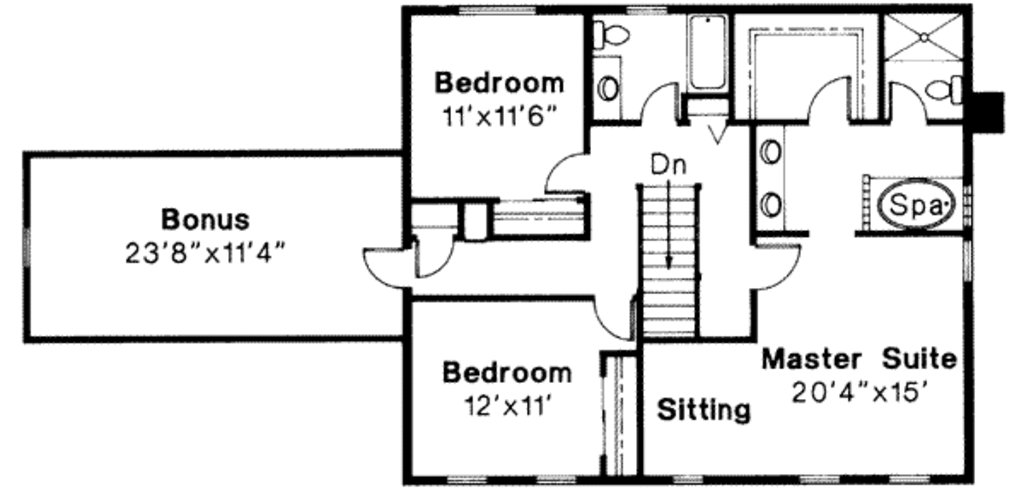door: (748, 241, 803, 295), (803, 72, 859, 125), (542, 148, 594, 200), (360, 247, 408, 296), (590, 290, 632, 344), (882, 75, 928, 123), (640, 82, 681, 134), (409, 234, 455, 279)
large_sink: (925, 73, 965, 109), (590, 17, 631, 50)
small_sink: (594, 56, 628, 124)
stairs: (635, 178, 706, 339)
tub: (684, 9, 731, 96)
window: (455, 6, 541, 21), (532, 469, 580, 486), (624, 4, 670, 20), (961, 239, 975, 286), (444, 471, 487, 485)
